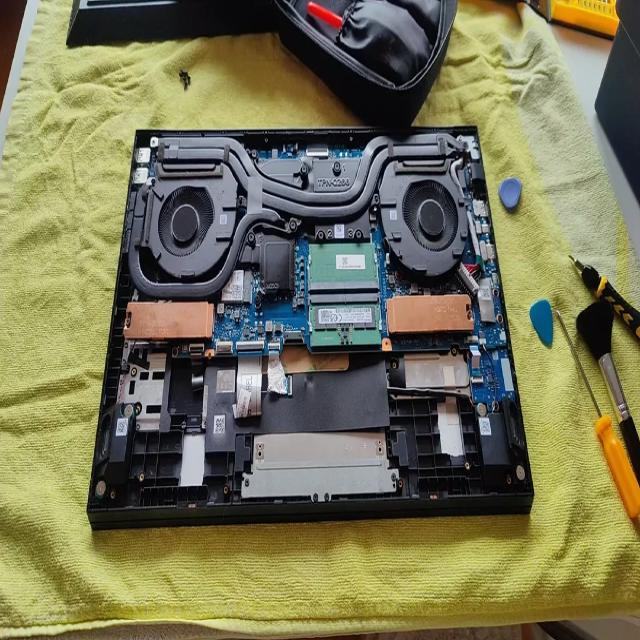SSD: (219, 261, 254, 308)
